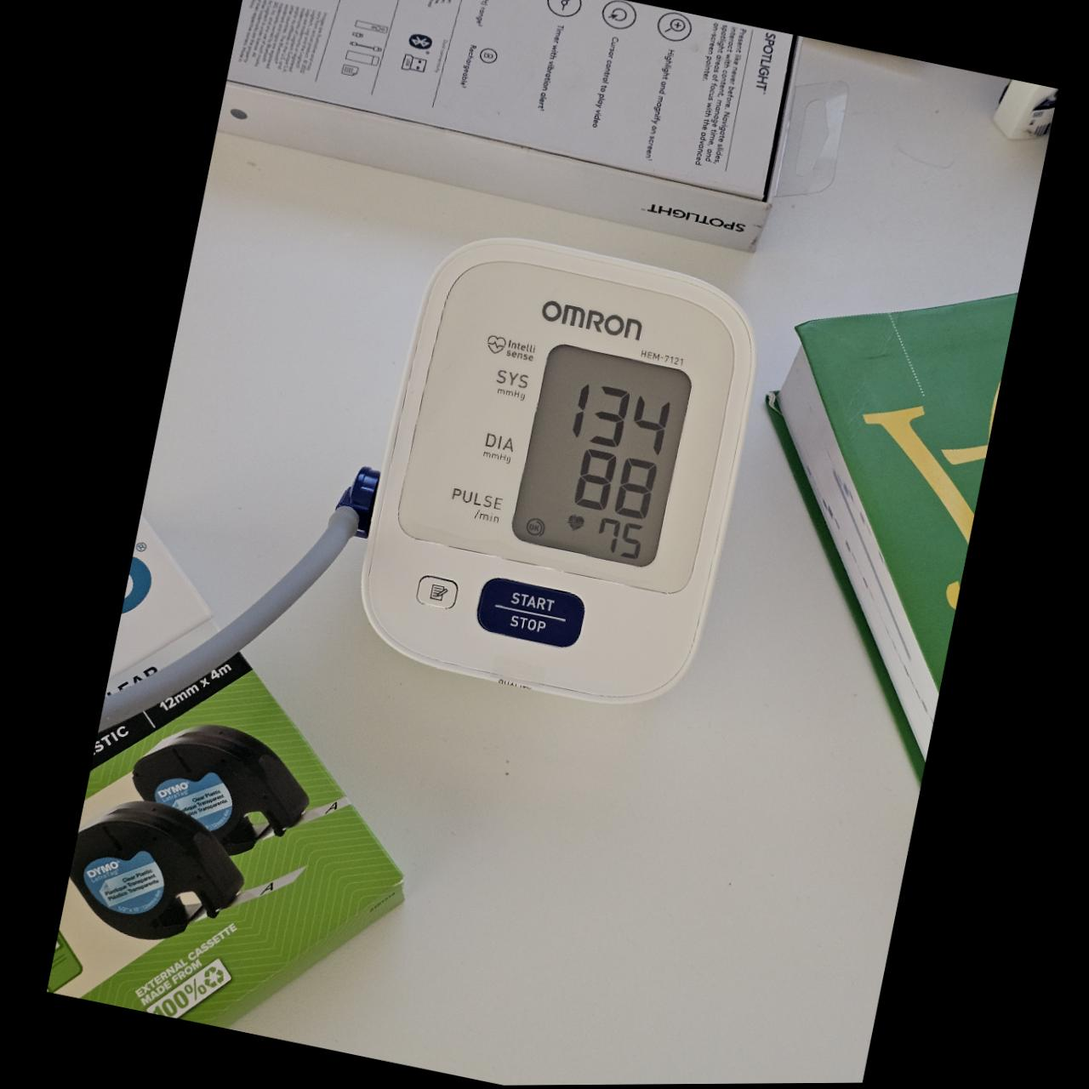lcd display: (505, 340, 699, 574)
